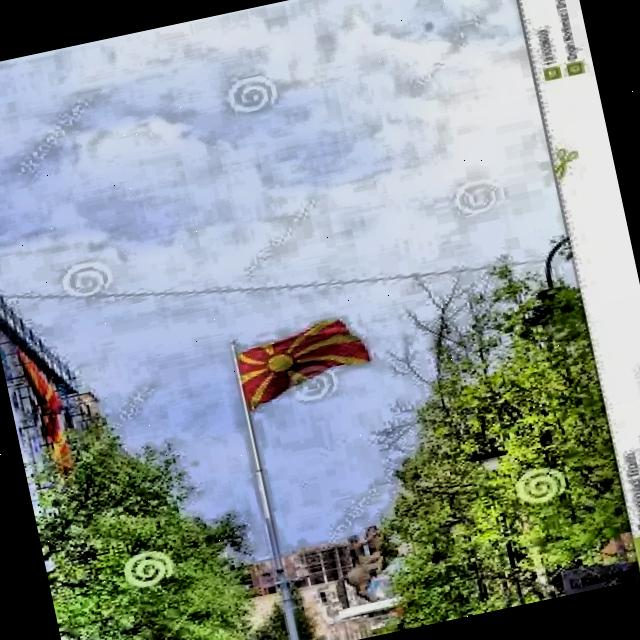alexander the great monument: (323, 513, 428, 640)
